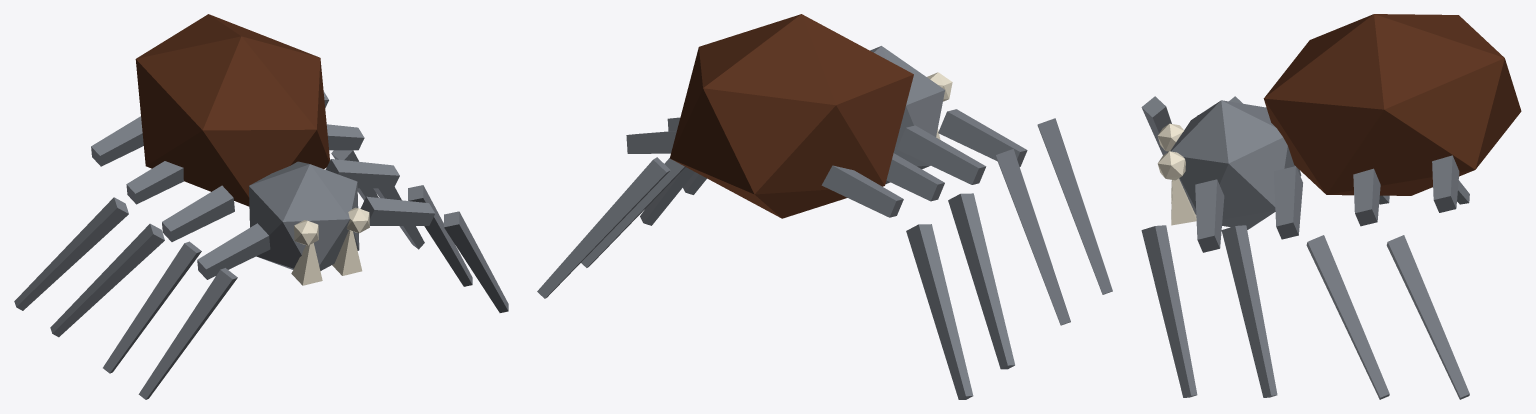
The model's file is npcpose_spider_attack_05.glb.
The picture shows the model from 3 angles, left to right: view 1: azimuth 30°, elevation 25°; view 2: azimuth 150°, elevation 25°; view 3: azimuth 270°, elevation 25°; orthographic projection. The views are drawn at different scales.
Parts seen in each view (by area): view 1: npcpose; view 2: npcpose; view 3: npcpose.
Part boxes in pixels (x1=…): npcpose: x1=14, y1=14, x2=508, y2=399; npcpose: x1=537, y1=14, x2=1112, y2=399; npcpose: x1=1141, y1=14, x2=1521, y2=399.
Size of the model in its own units: 1.32 by 0.8737 by 1.04.
